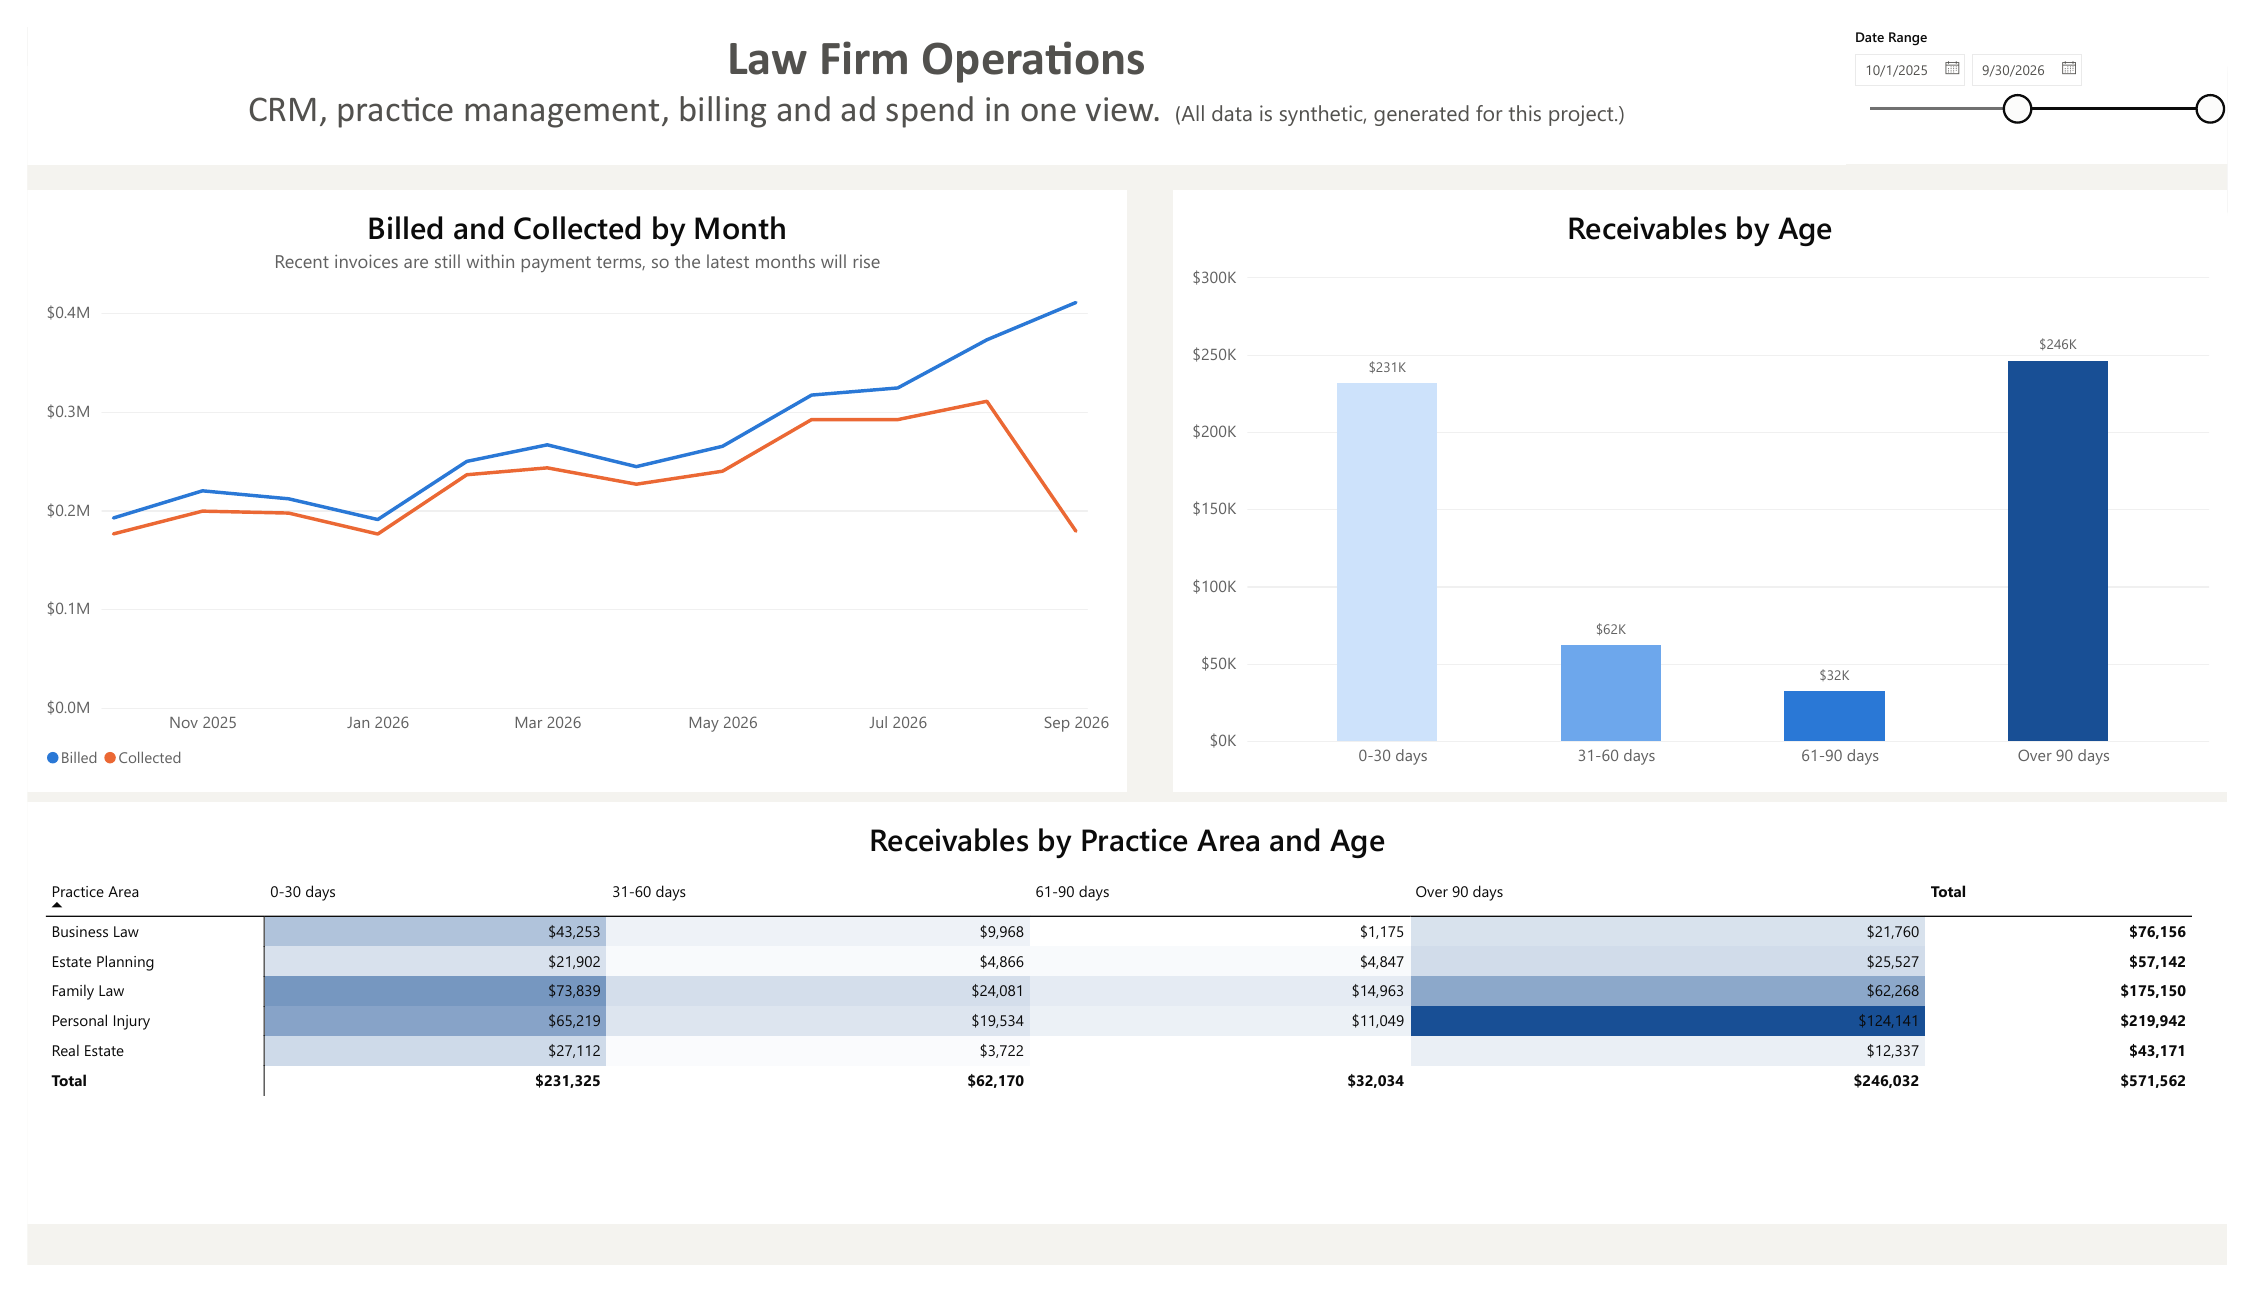

What the dashboard file says about the page in this screenshot:
{"tool":"powerbi","page":{"name":"Revenue","canvas":[1920,1080],"ordinal":4},"visuals":[{"type":"textbox","box":[0,0,1586.7,120],"z":0},{"type":"slicer","fields":{"Values":["Dates.date"]},"box":[1586.7,0,334.2,119.2],"z":1000},{"type":"lineChart","title":"Billed and Collected by Month","fields":{"Category":["Dates.month_start"],"Y":["_measures.Billed","_measures.Collected"]},"box":[0,142.2,960,524.4],"z":1001},{"type":"clusteredColumnChart","title":"Receivables by Age","fields":{"Category":["Invoices.aging_bucket"],"Y":["_measures.Receivables"]},"box":[1000,142.2,920,524.4],"z":1002},{"type":"pivotTable","title":"Receivables by Practice Area and Age","fields":{"Columns":["Invoices.aging_bucket"],"Rows":["Matters.practice_area"],"Values":["_measures.Receivables"]},"box":[0,675.6,1920,368.9],"z":1003}]}

Visuals, with their boxes in screenshot pixels (x1, y1, x2, y2), scaled from the page's 1920x1080 canvas onto the 2255x1293 screenshot:
textbox: bbox(0, 0, 1864, 144)
slicer - Dates.date: bbox(1864, 0, 2254, 143)
"Billed and Collected by Month" lineChart: bbox(0, 170, 1128, 798)
"Receivables by Age" clusteredColumnChart: bbox(1174, 170, 2254, 798)
"Receivables by Practice Area and Age" pivotTable: bbox(0, 809, 2254, 1250)
